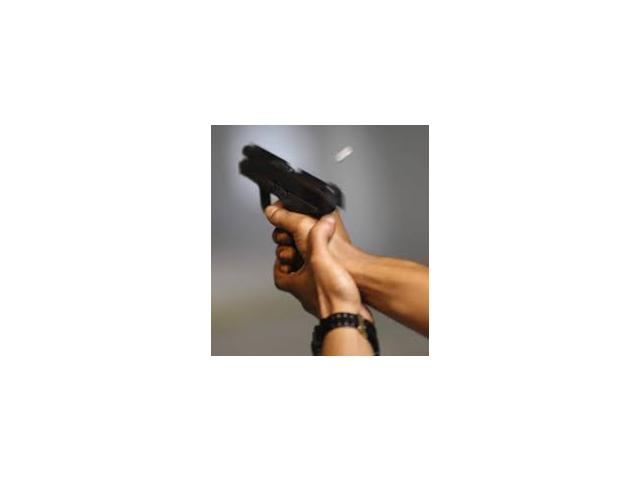pistol: (231, 141, 347, 301)
